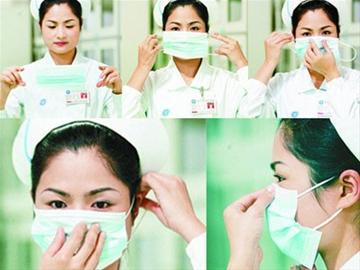NONE: (165, 17, 207, 60), (44, 12, 79, 56)
OK: (36, 171, 133, 270), (266, 153, 337, 265)
WRONG: (298, 18, 338, 68)
